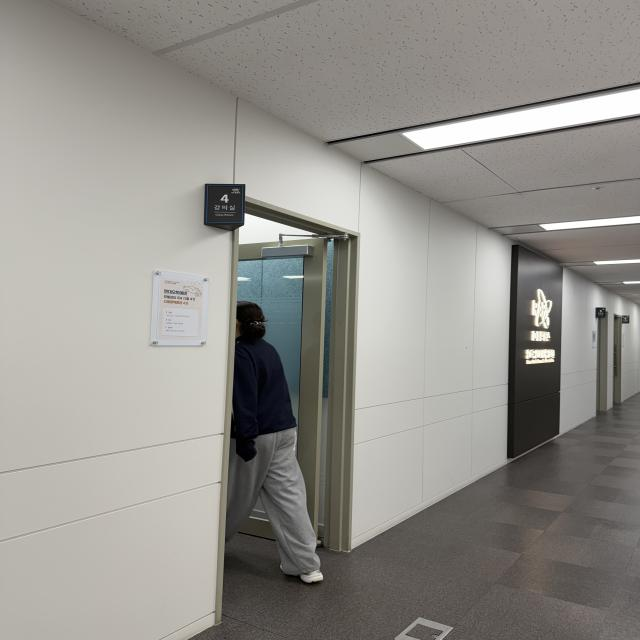room4: (205, 184, 244, 224)
